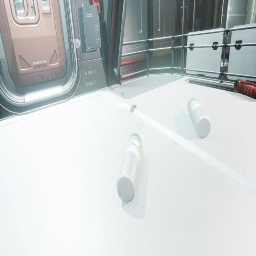0: (117, 133, 142, 202), (188, 98, 211, 138)
FireAlarm ,: (93, 0, 100, 14)
FireExtinguisher ]: (234, 79, 256, 99)
